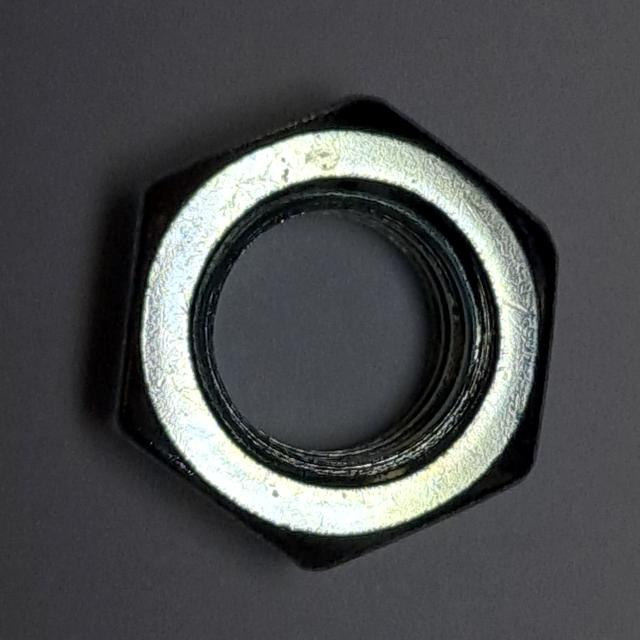Excellent: (94, 77, 574, 581)
